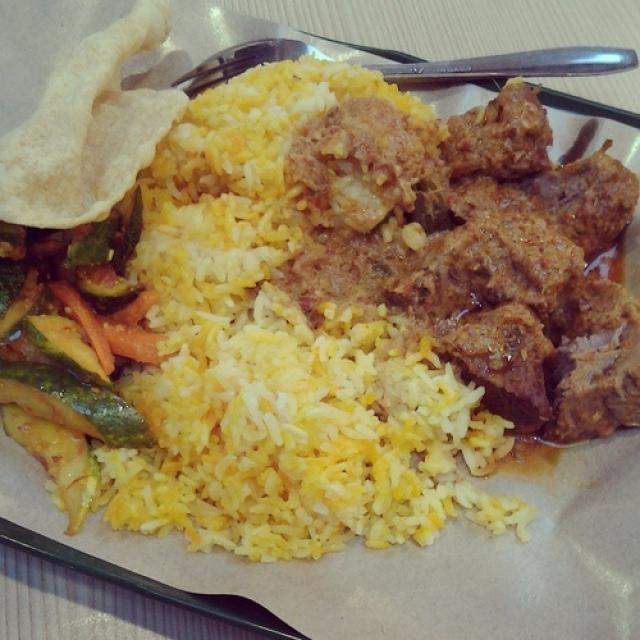米饭主食: (9, 18, 623, 602)
